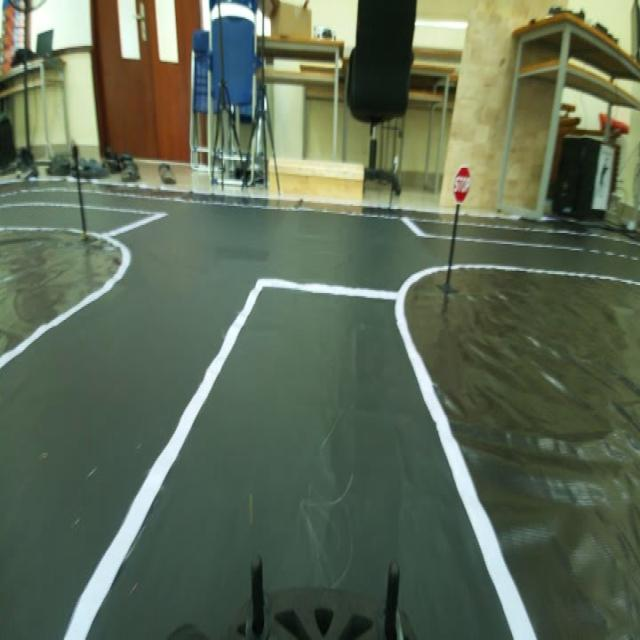stop: (450, 162, 472, 204)
